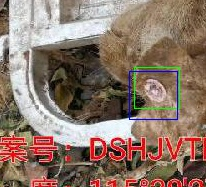text: (134, 67, 179, 108)
